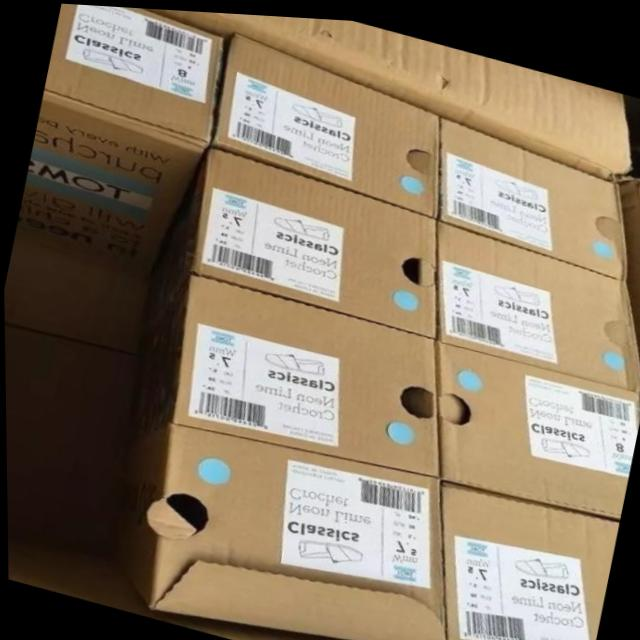box: (142, 418, 441, 640), (14, 3, 225, 274), (170, 273, 438, 470), (186, 145, 435, 335), (211, 29, 439, 212), (435, 335, 640, 512), (436, 216, 640, 386), (439, 111, 625, 274), (440, 477, 618, 640)
